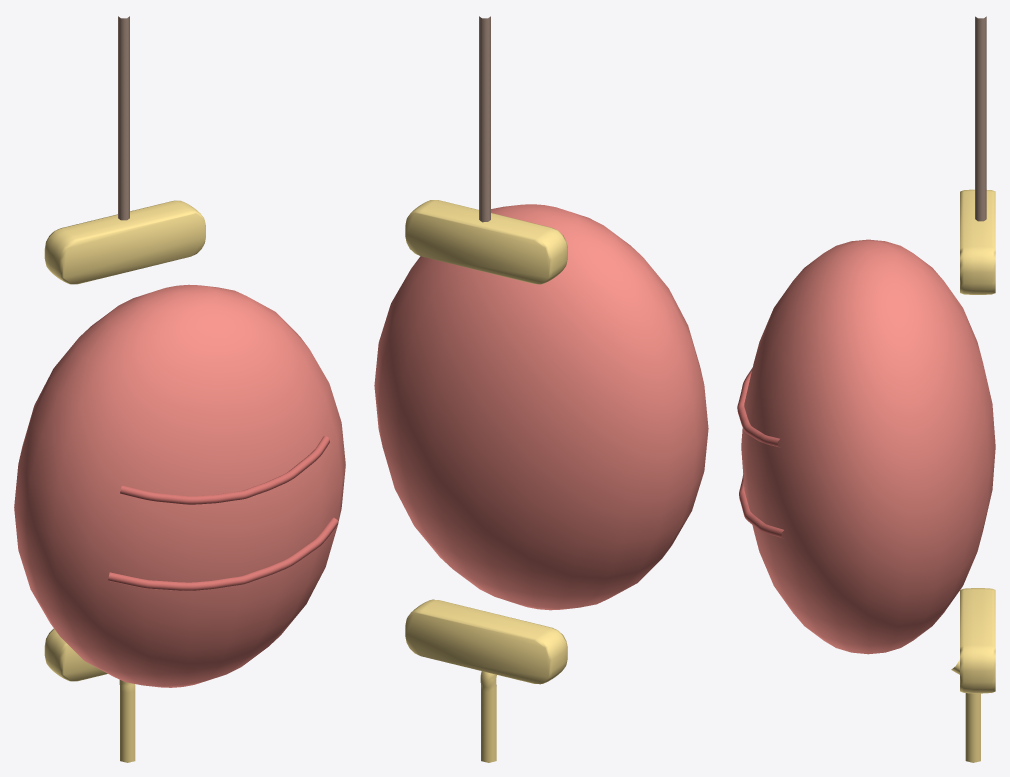
File: decor_2_classic.glb
3 views of the same model, side by side, from view 1: azimuth 30°, elevation 25°; view 2: azimuth 150°, elevation 25°; view 3: azimuth 270°, elevation 25° (orthographic).
Parts seen in each view (by area): view 1: decor_2_classic; view 2: decor_2_classic; view 3: decor_2_classic.
Part boxes in pixels (left/top/right/bottom): decor_2_classic: left=14, top=16, right=345, bottom=762; decor_2_classic: left=374, top=16, right=708, bottom=762; decor_2_classic: left=737, top=16, right=995, bottom=762.
Bounding box in the file's own units: 6 × 13.8 × 4.35.
